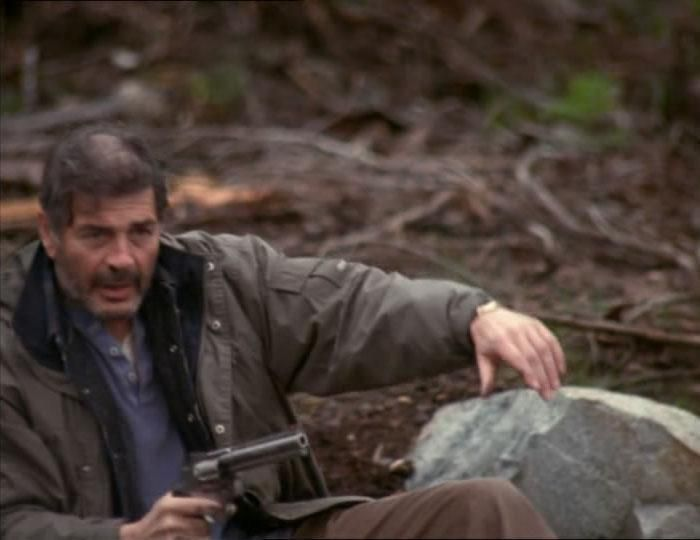gun: (166, 425, 327, 518)
